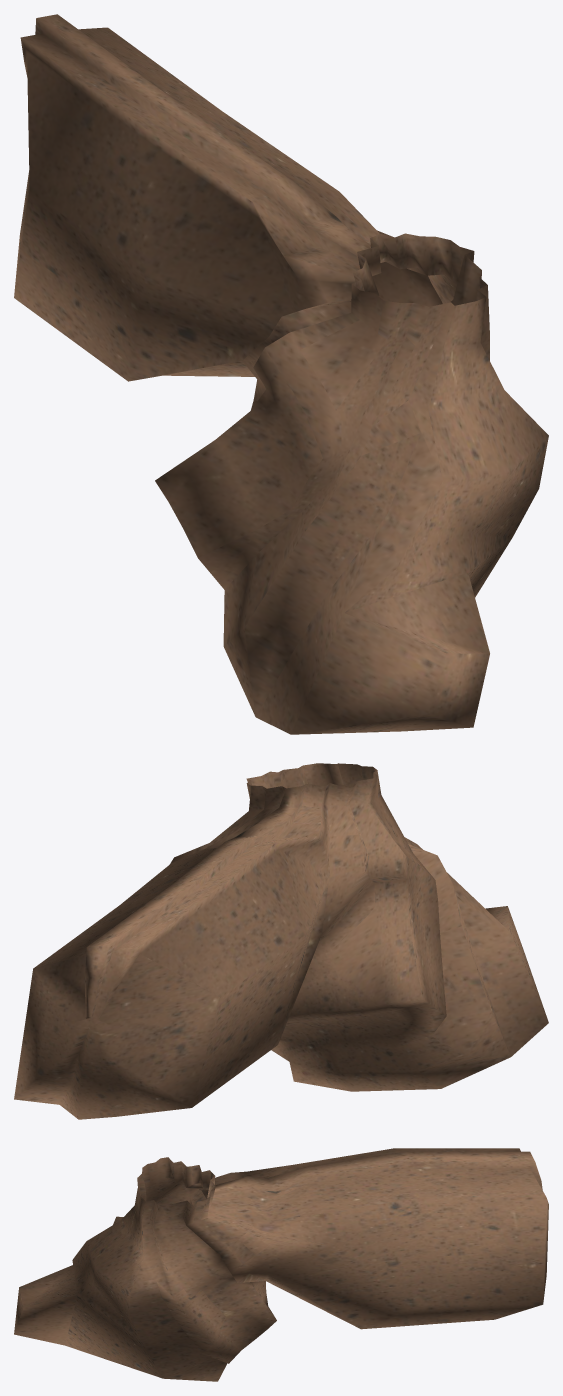
The model's file is TERRENO.fbx.
The picture shows the model from 3 angles, top to bottom: view 1: azimuth 30°, elevation 25°; view 2: azimuth 150°, elevation 25°; view 3: azimuth 270°, elevation 25°; orthographic projection. The views are drawn at different scales.
Parts seen in each view (by area): view 1: Areia.001; view 2: Areia.001; view 3: Areia.001.
Boxes of the visible parts, x1,y1,x2,y2 form: Areia.001: [14, 14, 548, 734]; Areia.001: [14, 763, 548, 1119]; Areia.001: [14, 1148, 548, 1381].
Bounding box in the file's own units: 21424 × 26086 × 57055.
